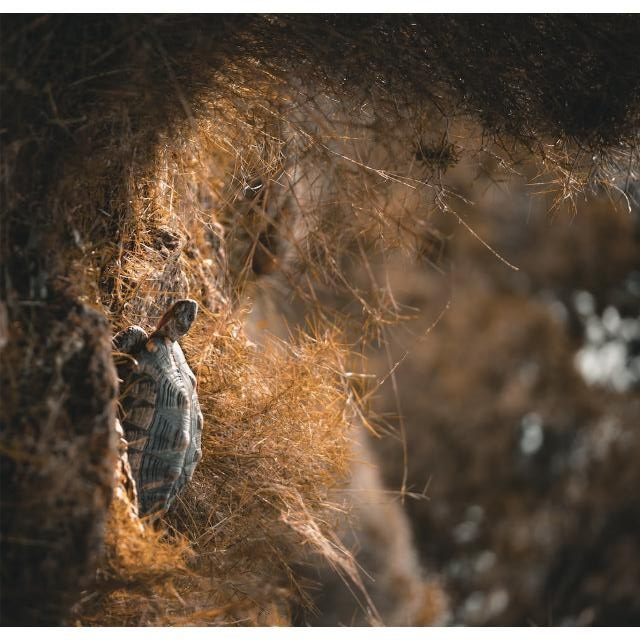turtle: (110, 299, 203, 531)
